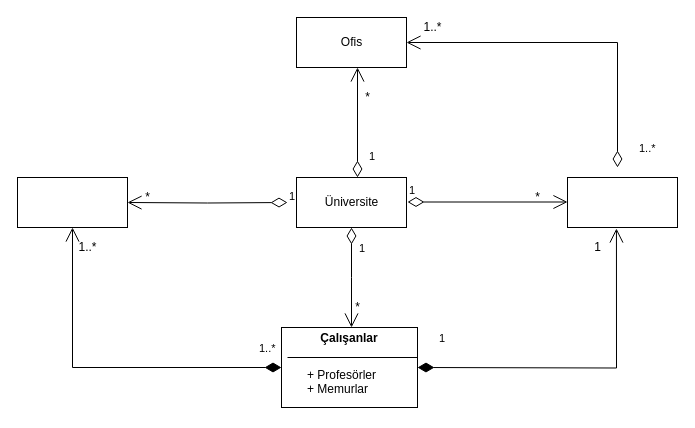
The diagram is 695 pixels wide and 428 high, and some of its shapes have lost their labels. Here are the shapes that lost their labels. From the top down, the centre of each, then its label:
pixel 72 202: Sınıf
pixel 622 202: Departman
